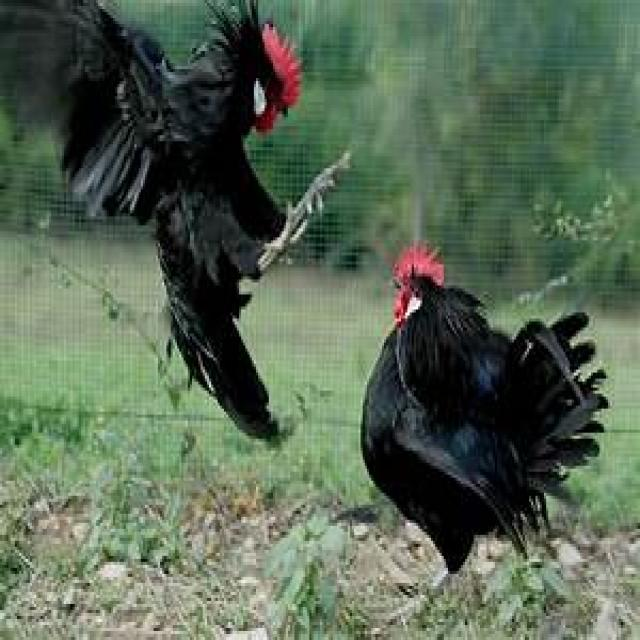hen: (361, 243, 610, 577)
